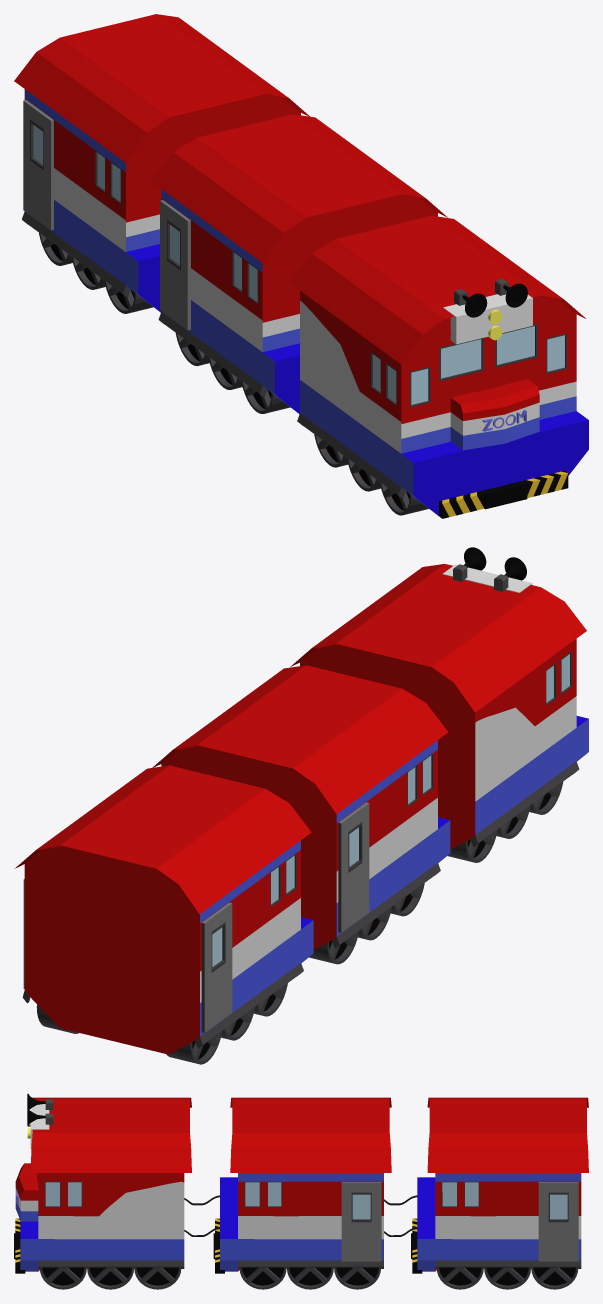
The model's file is trail.fbx.
3 renders of one model, top to bottom at view 1: azimuth 30°, elevation 25°; view 2: azimuth 150°, elevation 25°; view 3: azimuth 270°, elevation 25°, orthographic. The views are drawn at different scales.
Visible parts, largest first — view 1: Cube, Cube.001, Cube.002, cube, cube.006, cube.010, cube.002, cube.001, cylinder.005, cylinder.020, cylinder.013; view 2: Cube.002, Cube, Cube.001, cube.006, cube.010, cylinder.021, cylinder.006, cylinder.014, cube.001; view 3: Cube, Cube.002, Cube.001, cube.005, cube.009, cube, cylinder.004, cylinder.010, cylinder.019, cylinder.002, cylinder.003, cylinder.011 (+7 smaller).
Part boxes in pixels (x1,y1,x2,y2): Cube: (289,215,588,515); Cube.001: (151,114,447,413); Cube.002: (14,14,309,312); cube: (450,379,539,450); cube.006: (160,200,190,330); cube.010: (23,100,53,230); cube.002: (438,470,568,518); cube.001: (443,294,532,344); cylinder.005: (380,482,428,515); cylinder.020: (104,280,153,313); cylinder.013: (241,381,290,413); Cube.002: (14,765,313,1054); Cube: (290,564,588,849); Cube.001: (152,665,450,949); cube.006: (338,802,369,932); cube.010: (201,902,232,1032); cylinder.021: (166,1031,222,1064); cylinder.006: (447,830,497,862); cylinder.014: (309,931,358,964); cube.001: (442,564,532,592); Cube: (20,1097,191,1271); Cube.002: (417,1097,588,1271); Cube.001: (220,1097,391,1271); cube.005: (341,1182,381,1261); cube.009: (538,1182,578,1261); cube: (15,1163,38,1221); cylinder.004: (134,1267,181,1289); cylinder.010: (239,1267,286,1289); cylinder.019: (531,1267,578,1289); cylinder.002: (40,1267,86,1289); cylinder.003: (87,1267,133,1289); cylinder.011: (287,1267,333,1289).
Bounding box in the file's own units: 772 × 888 × 2872.
